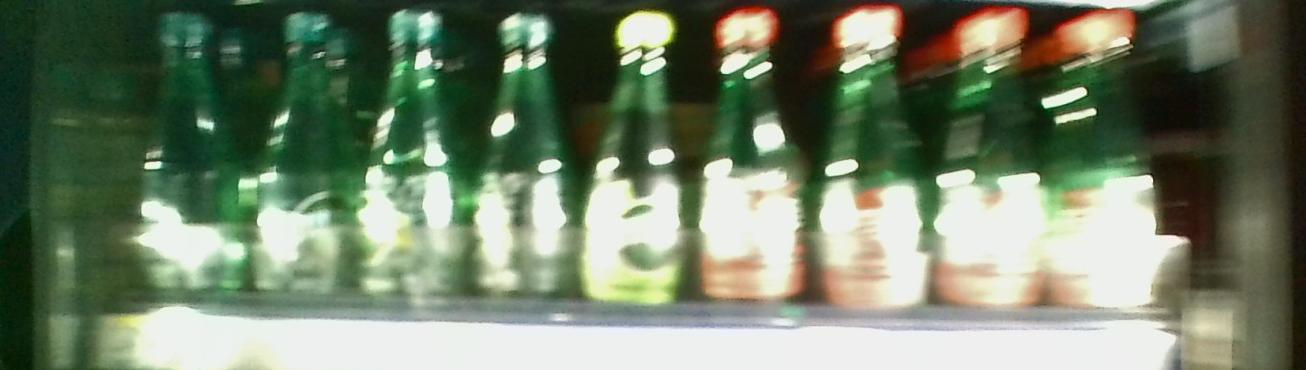bottle: (816, 8, 928, 315), (585, 1, 690, 313), (132, 6, 241, 299), (700, 10, 804, 315), (474, 10, 575, 321), (940, 8, 1040, 317), (1056, 15, 1156, 313), (363, 10, 461, 310), (256, 8, 350, 307)
